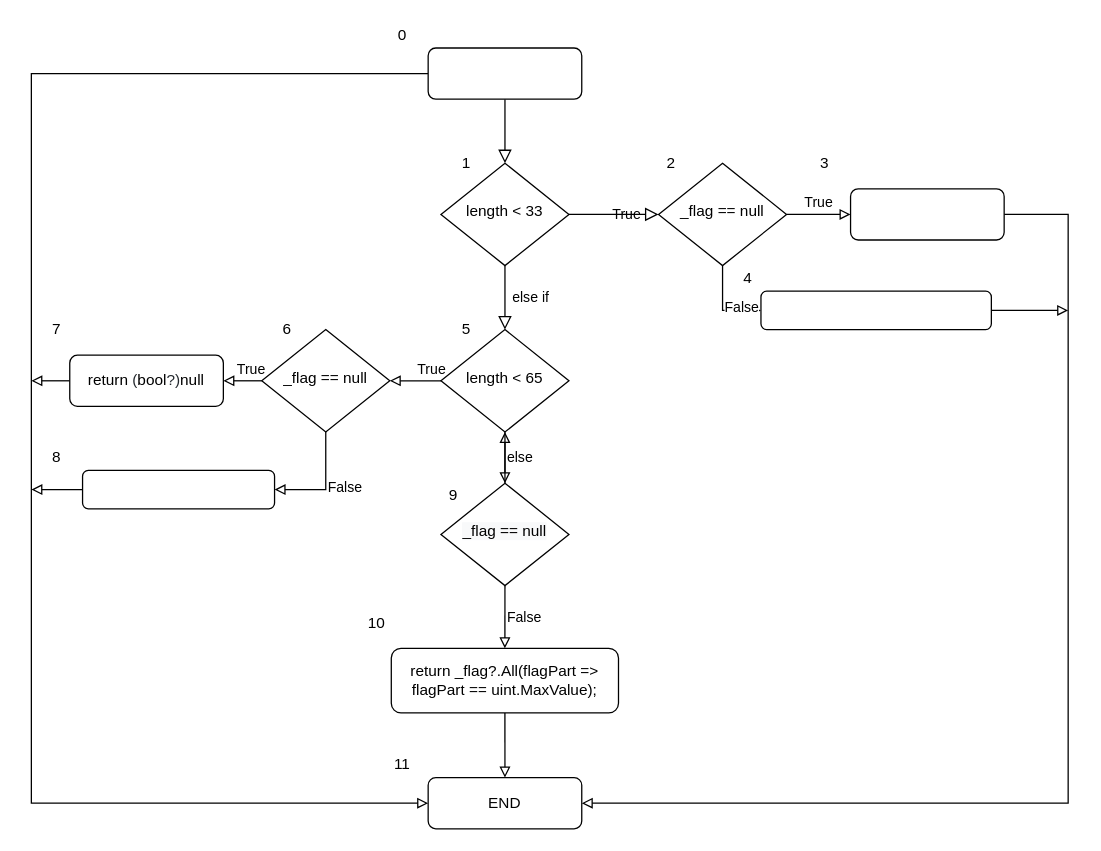
Some shapes in this 1101 by 851 pixel diagram are drawn without their labels. Each missing label, with the centre of its shape:
_flag == uint . MaxValue ;: (x=875, y=310)
_flag == ulong . MaxValue: (x=178, y=489)
constructor MultipleBinaryFlag: (x=504, y=73)
return (bool?) null: (x=926, y=214)
